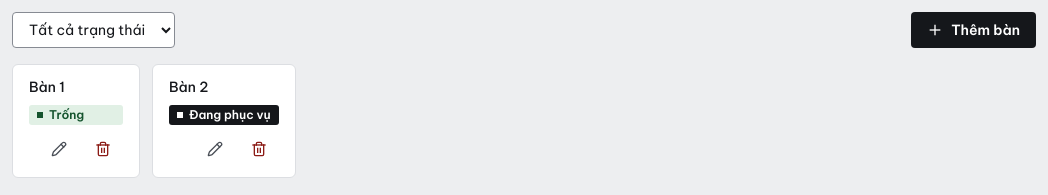
Test: TableList › narrows tables by status and clears the filter on reset
Expected: the text "Bàn 1" is shown, left=29, top=78, right=65, bottom=96
Expected: the text "Bàn 2" is shown, left=169, top=78, right=208, bottom=96
Select "Trống" in the dropdown named "Trạng thái" at point(94, 30), box left=12, top=12, right=175, bottom=48
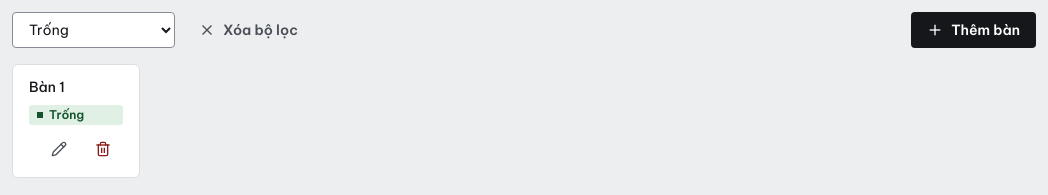
Expected: the text "Bàn 1" is shown, left=29, top=78, right=65, bottom=96
Expected: the text "Bàn 2" is gone
Click the button "Xóa bộ lọc".
click(248, 30)  # box left=183, top=12, right=314, bottom=48
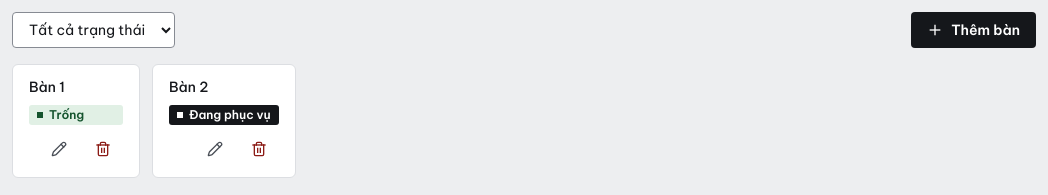
Expected: the text "Bàn 2" is shown, left=169, top=78, right=208, bottom=96
